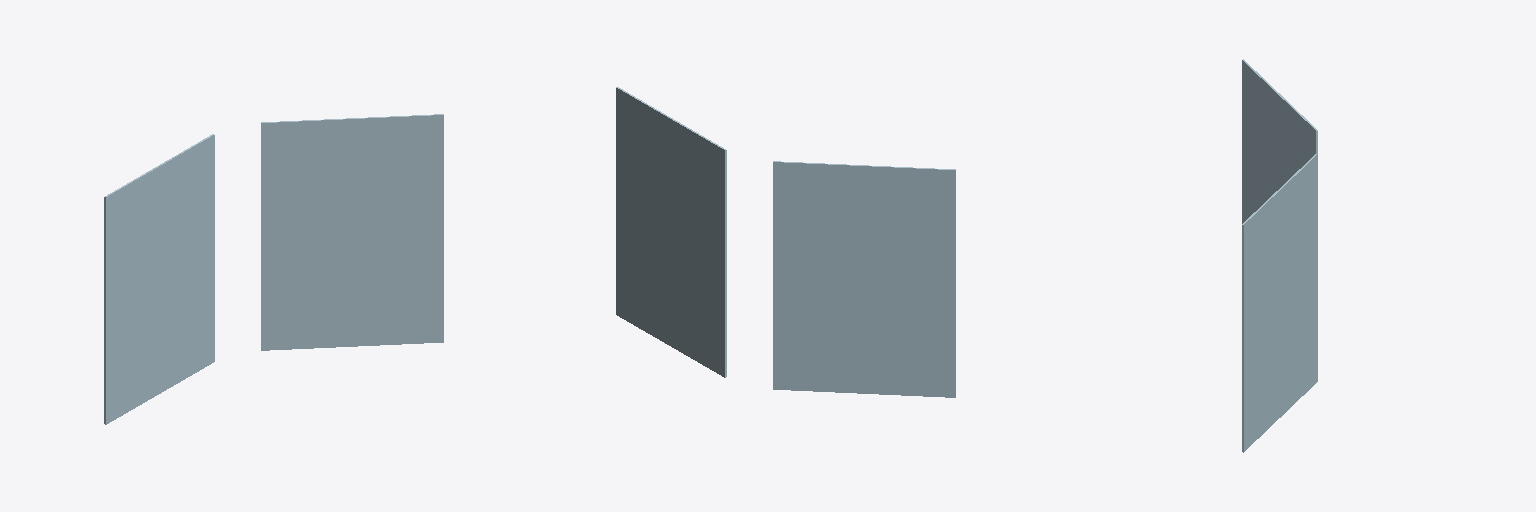
3 views of the same model, side by side, from view 1: azimuth 30°, elevation 25°; view 2: azimuth 150°, elevation 25°; view 3: azimuth 270°, elevation 25° (orthographic).
Parts seen in each view (by area): view 1: polySurface6 pCube4, polySurface3 pCube3; view 2: polySurface3 pCube3, polySurface6 pCube4; view 3: polySurface6 pCube4, polySurface3 pCube3.
Boxes of the visible parts, box(x1,y1,x2,y2) form: polySurface6 pCube4: box(261, 114, 443, 350); polySurface3 pCube3: box(104, 134, 214, 424); polySurface3 pCube3: box(773, 161, 955, 397); polySurface6 pCube4: box(616, 87, 726, 377); polySurface6 pCube4: box(1242, 154, 1317, 452); polySurface3 pCube3: box(1242, 59, 1317, 223).
Size of the model in its own units: 1.27 by 0.813 by 0.2471.
1 materials, 1 textured.